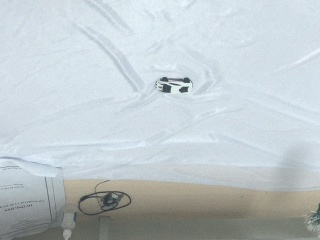toy_car: (153, 74, 196, 97)
